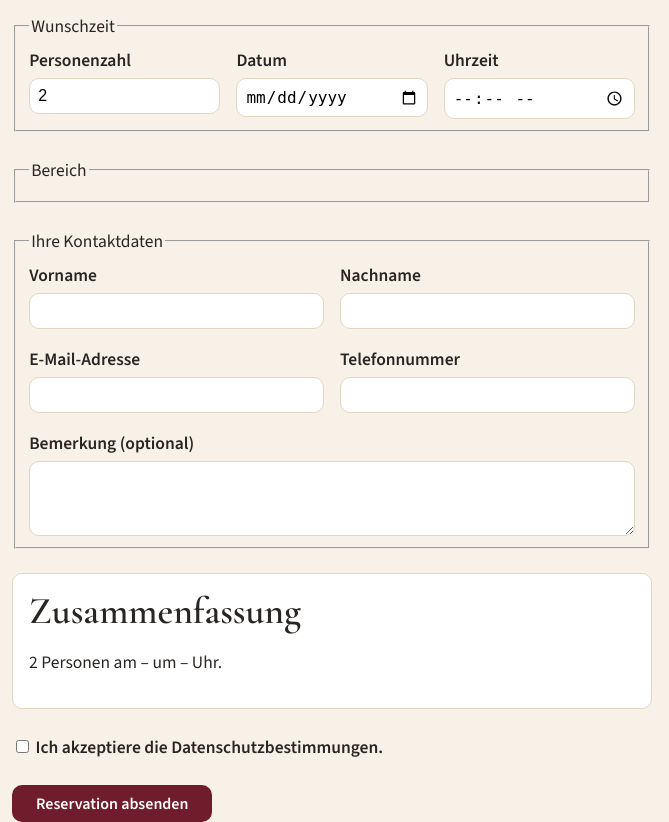
Test: ReservationForm › loads and pre-selects the recommended area once date, time and party size are filled in
Type "2026-08-15" into the date field labelled "Datum" at (332, 98), box [236,78,428,117]
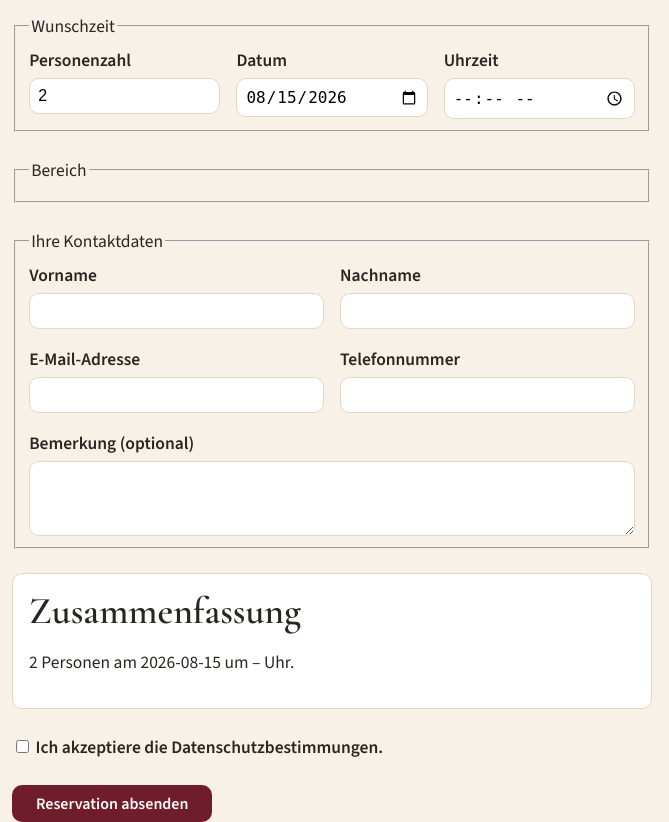
Type "19:00" into the time field labelled "Uhrzeit" at (539, 99), box [444,78,635,119]
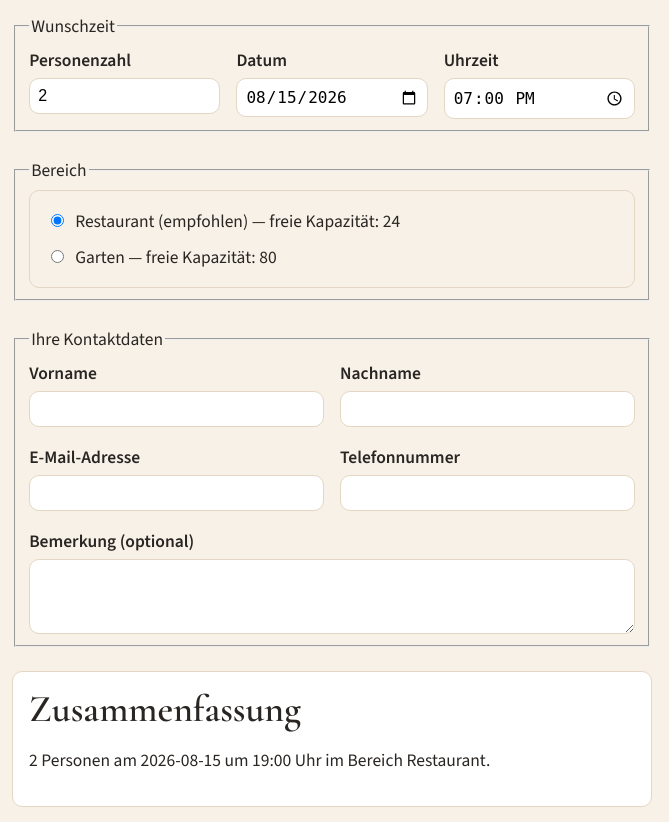
Check: the text "Restaurant (empfohlen) — freie Kapazität: 24" is shown, box [51,209,400,233]
Check: the radio button labelled "Restaurant (empfohlen) — freie Kapazität: 24" is checked, box [51,214,64,227]
